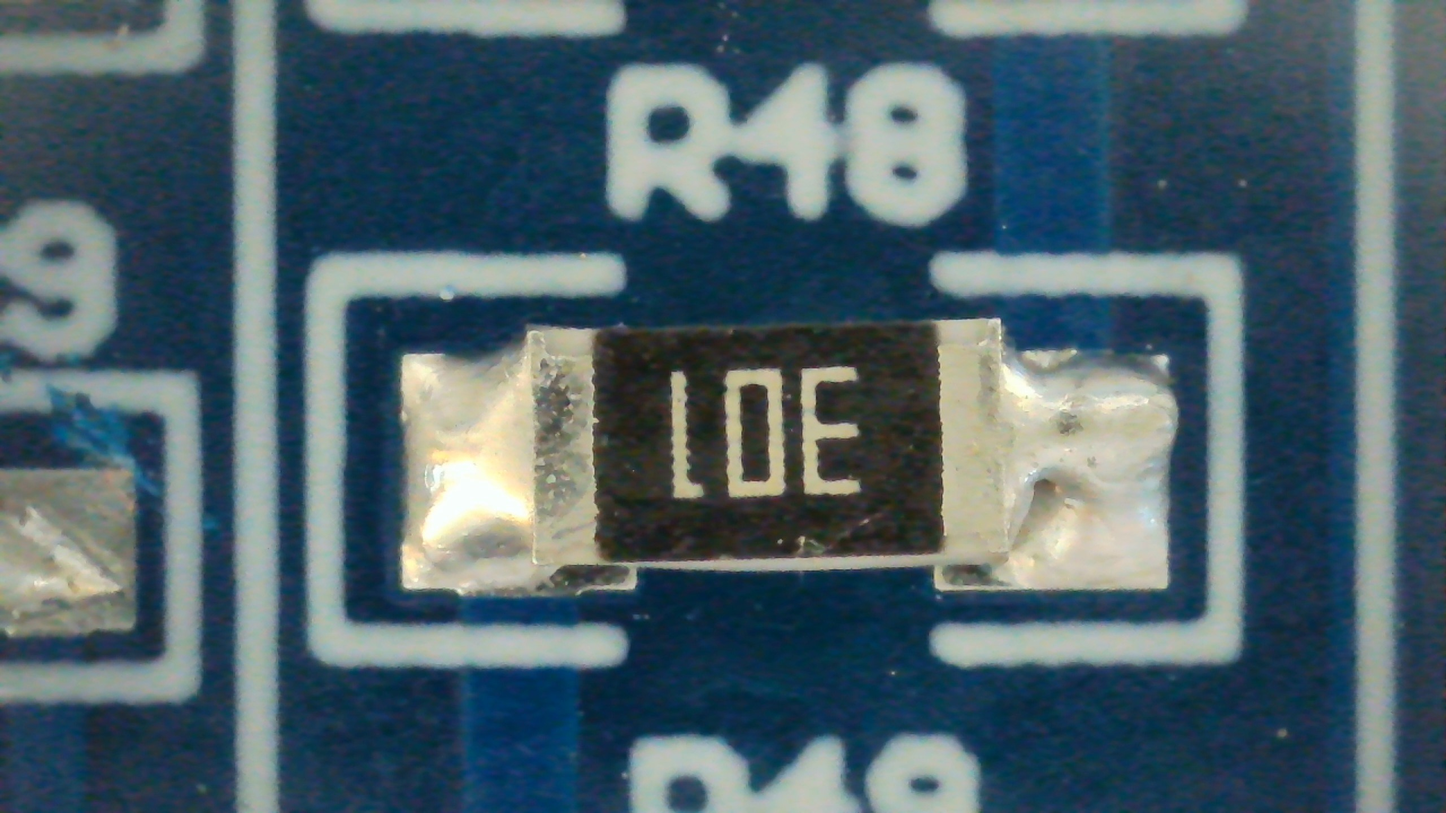NG: (402, 318, 1180, 598)
